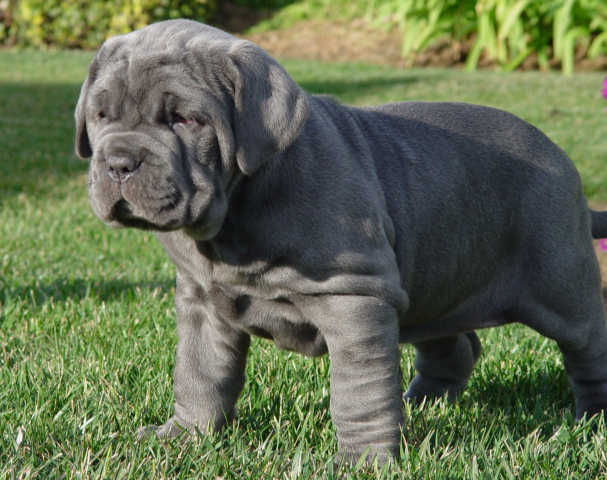neapolitan_mastiff: (73, 18, 607, 470)
